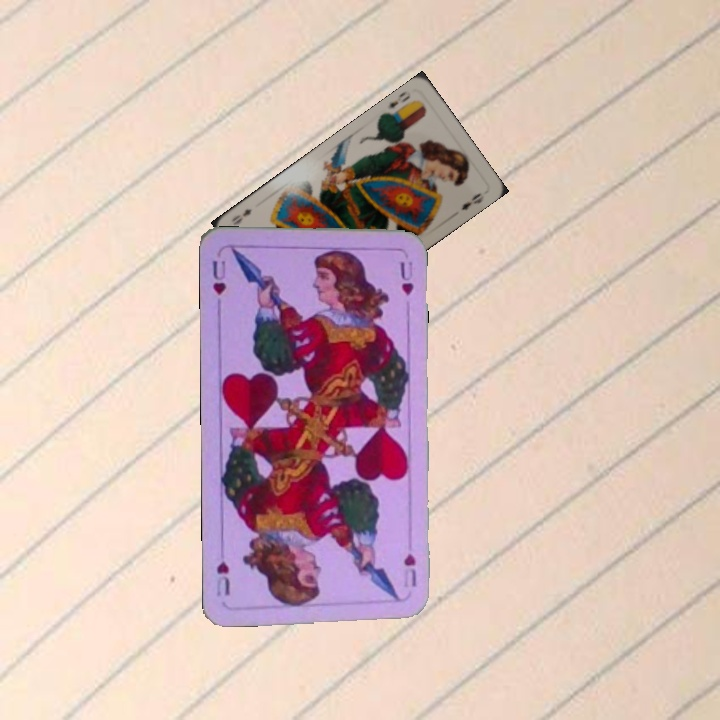EO: (383, 88, 413, 119)
HU: (208, 252, 230, 297), (399, 550, 419, 590)
